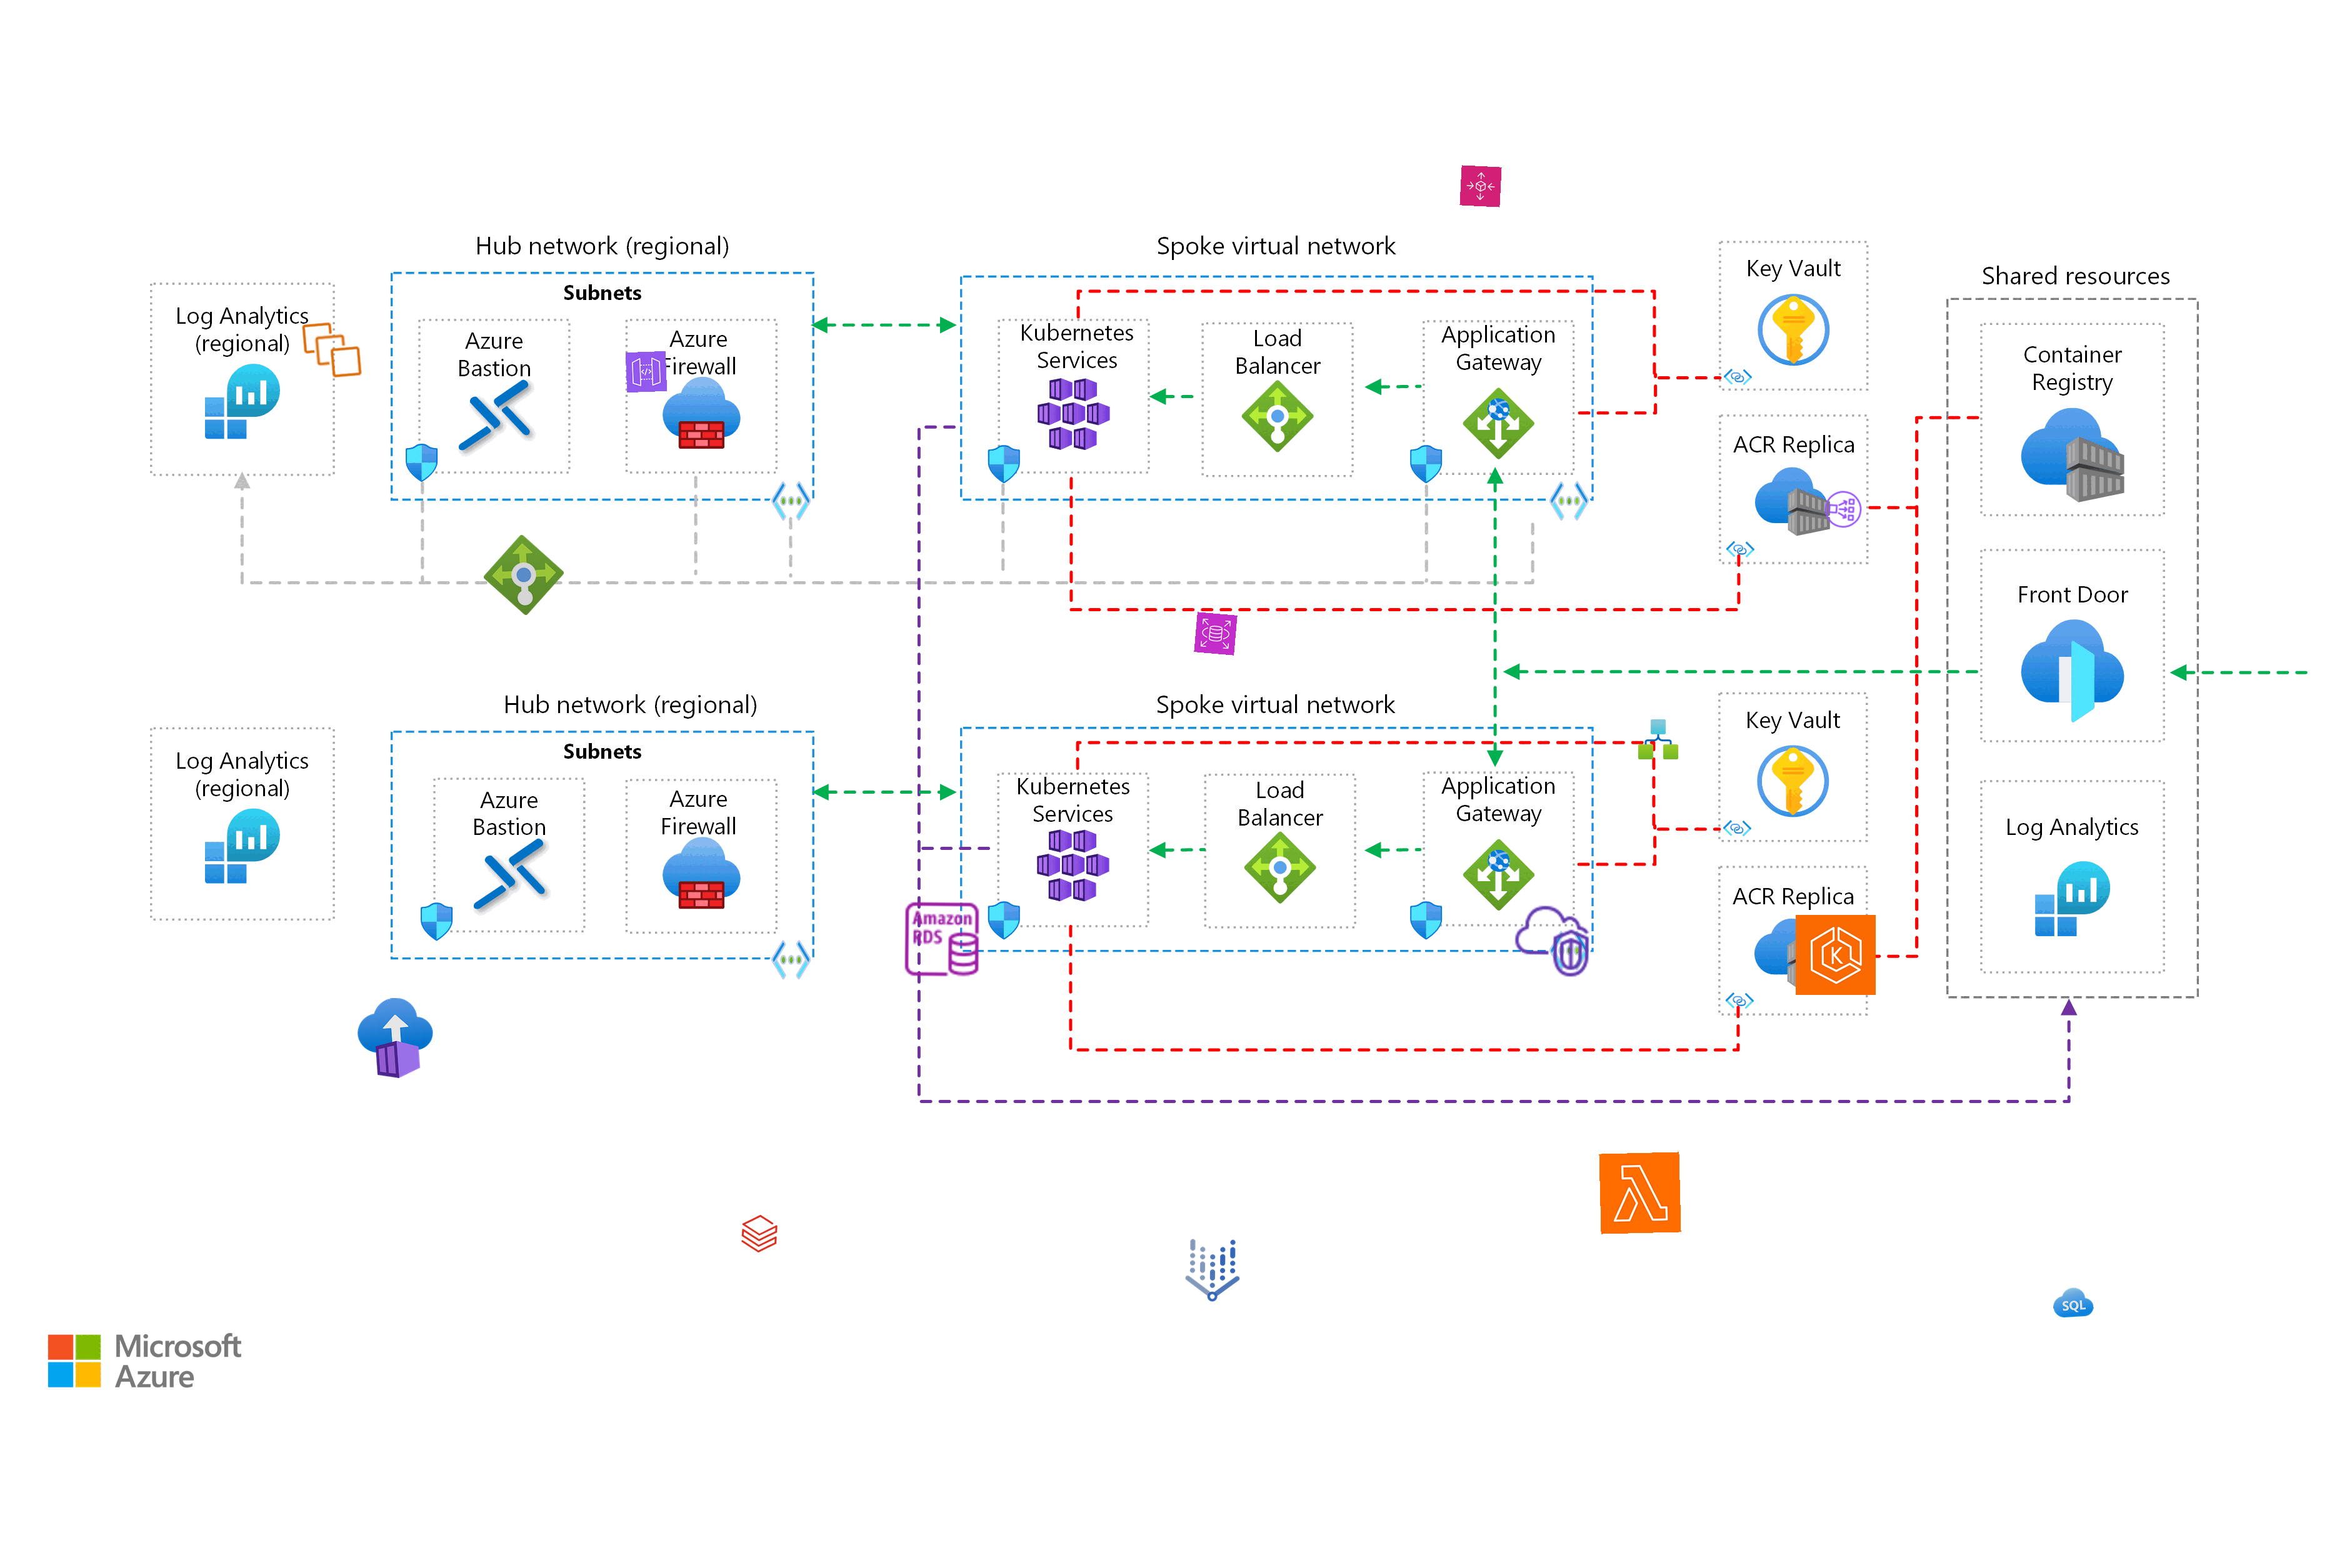aws_amazon_api_gateway: (625, 350, 667, 394)
aws_amazon_elastic_kubernetes_service: (1795, 913, 1876, 996)
aws_amazon_rds: (1194, 612, 1237, 656)
aws_aurora_amazon_rds_instance: (901, 899, 982, 980)
aws_auto_scaling: (1460, 164, 1501, 208)
aws_ec2_instances: (299, 317, 364, 383)
aws_elastic_load_balancing_network_load_balancer: (1822, 488, 1864, 530)
aws_lambda: (1599, 1151, 1682, 1234)
aws_vpc_virtual_private_cloud_vpc: (1512, 901, 1592, 982)
azure_container_instances: (352, 996, 439, 1081)
azure_databricks: (739, 1213, 780, 1255)
azure_load_balancers: (481, 532, 567, 618)
azure_logic_apps: (1638, 719, 1678, 759)
azure_sql: (2053, 1281, 2095, 1325)
gcp_vertex_ai: (1172, 1230, 1253, 1311)
